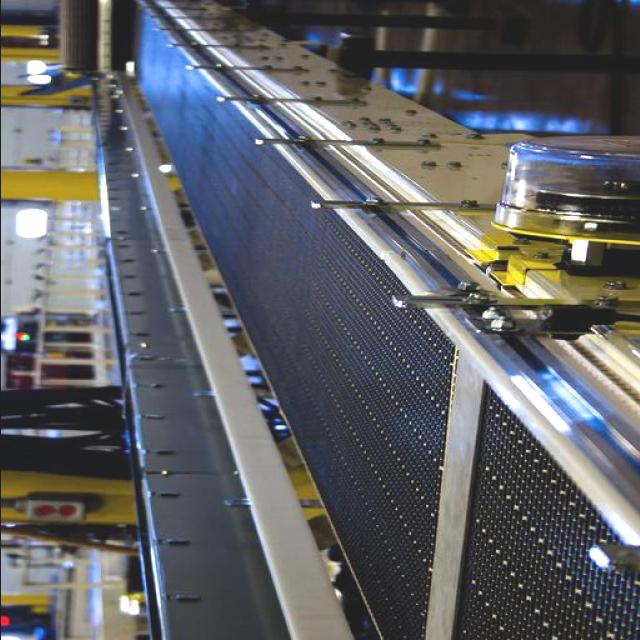conveyor: (133, 3, 640, 640)
